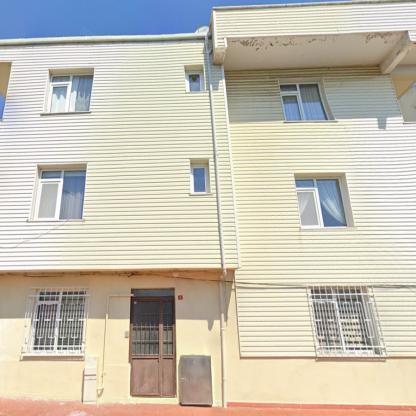door: (129, 299, 173, 396)
window: (312, 290, 374, 352), (32, 290, 86, 350), (294, 177, 348, 228), (35, 167, 86, 220), (279, 82, 328, 122), (48, 74, 94, 111), (192, 166, 206, 192), (186, 72, 202, 92), (132, 290, 173, 297)
